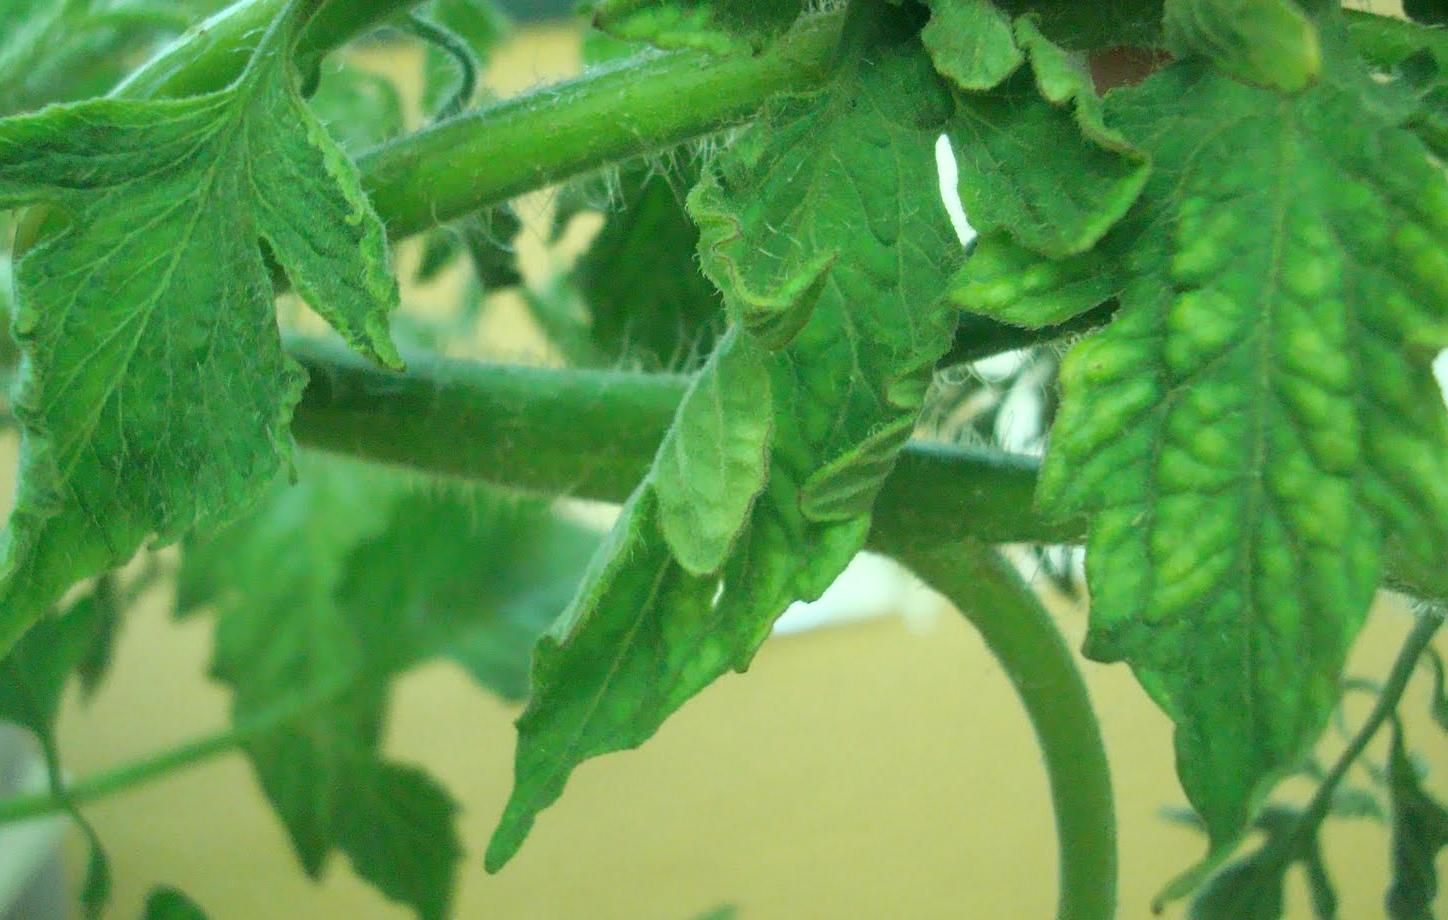Tomato leaf mosaic virus: (480, 0, 1139, 874), (983, 0, 1448, 836), (0, 68, 412, 705)
